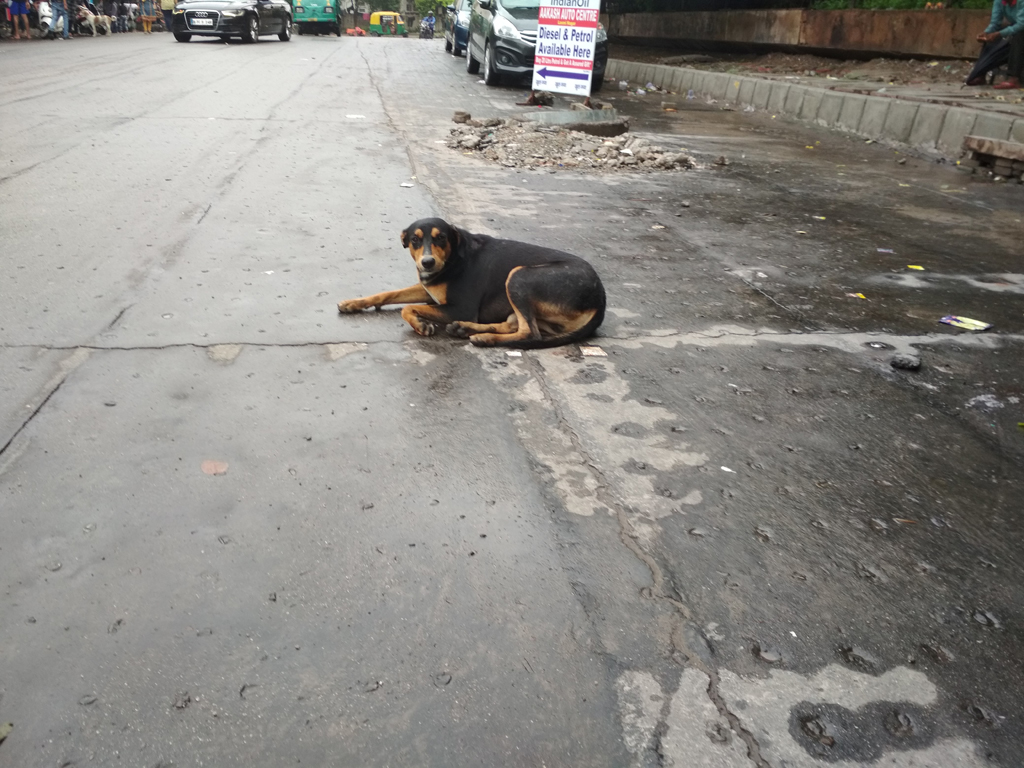dog: (339, 219, 609, 347)
